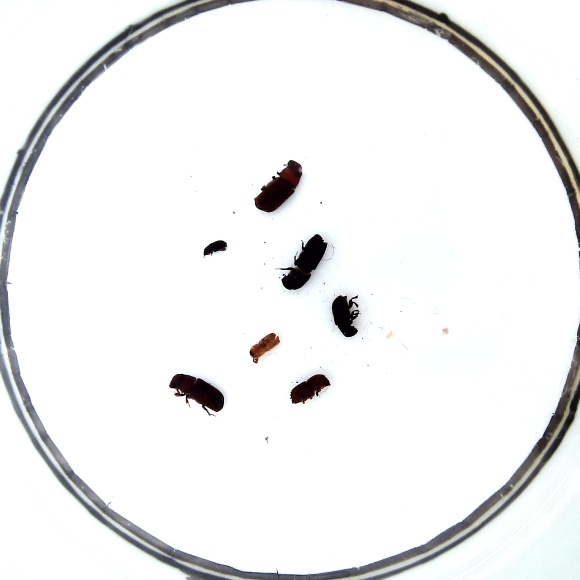armandi: (332, 295, 359, 337)
boerner: (281, 234, 328, 291)
coleoptera: (248, 332, 280, 359)
leconte: (254, 160, 302, 212), (169, 373, 224, 412), (203, 240, 227, 256)
linnaeus: (289, 374, 331, 404)
